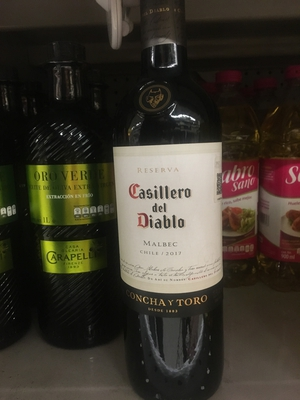casillero del diablo malbec: (103, 16, 247, 399)
